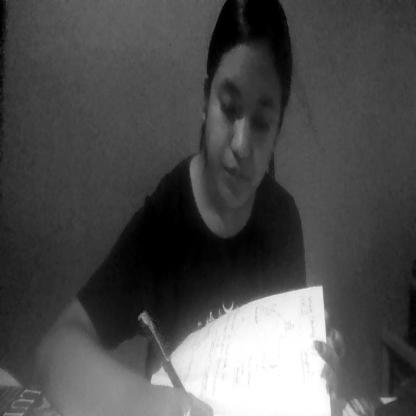Normal: (194, 9, 308, 237)
